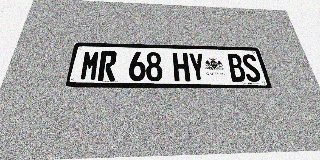6: (129, 51, 146, 81)
8: (146, 52, 163, 81)
B: (226, 54, 247, 82)
H: (172, 52, 190, 81)
M: (79, 50, 101, 81)
R: (97, 51, 117, 81)
S: (241, 54, 262, 82)
Y: (188, 53, 207, 82)
